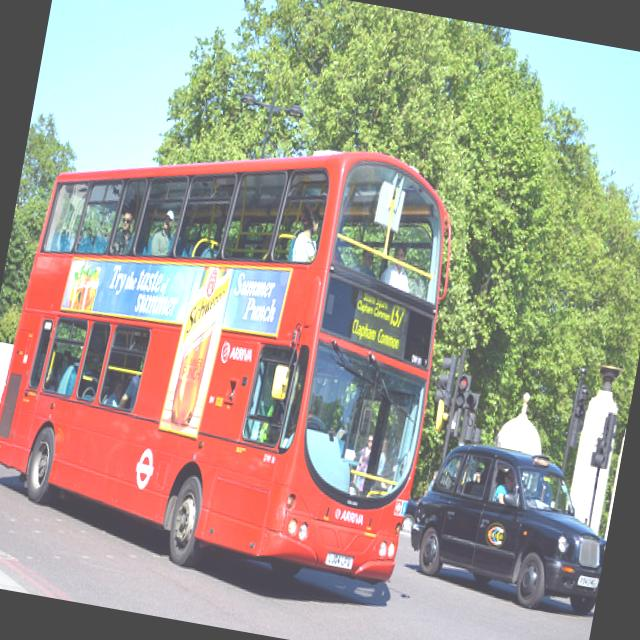Vehicle: (0, 96, 465, 597), (397, 430, 619, 616), (0, 336, 16, 445), (0, 340, 14, 449)
